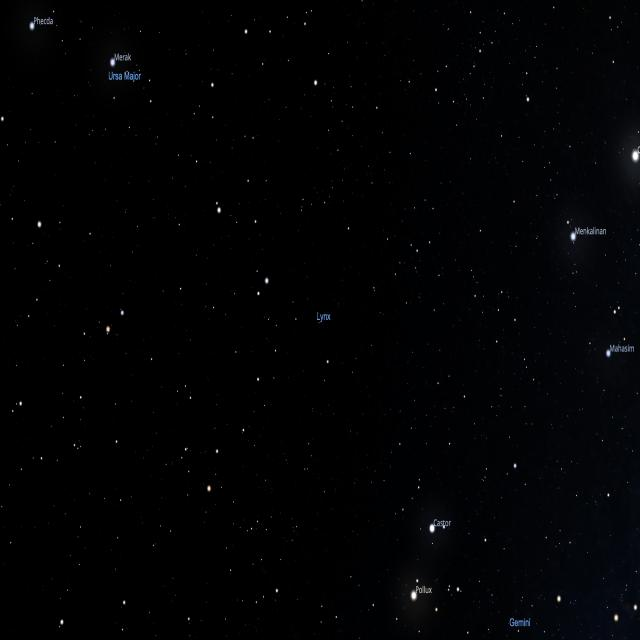Lynx: (206, 74, 412, 498)
